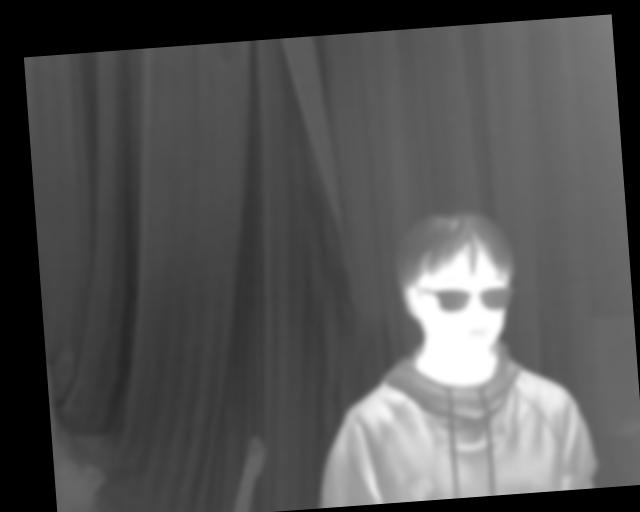face: (392, 208, 520, 359)
